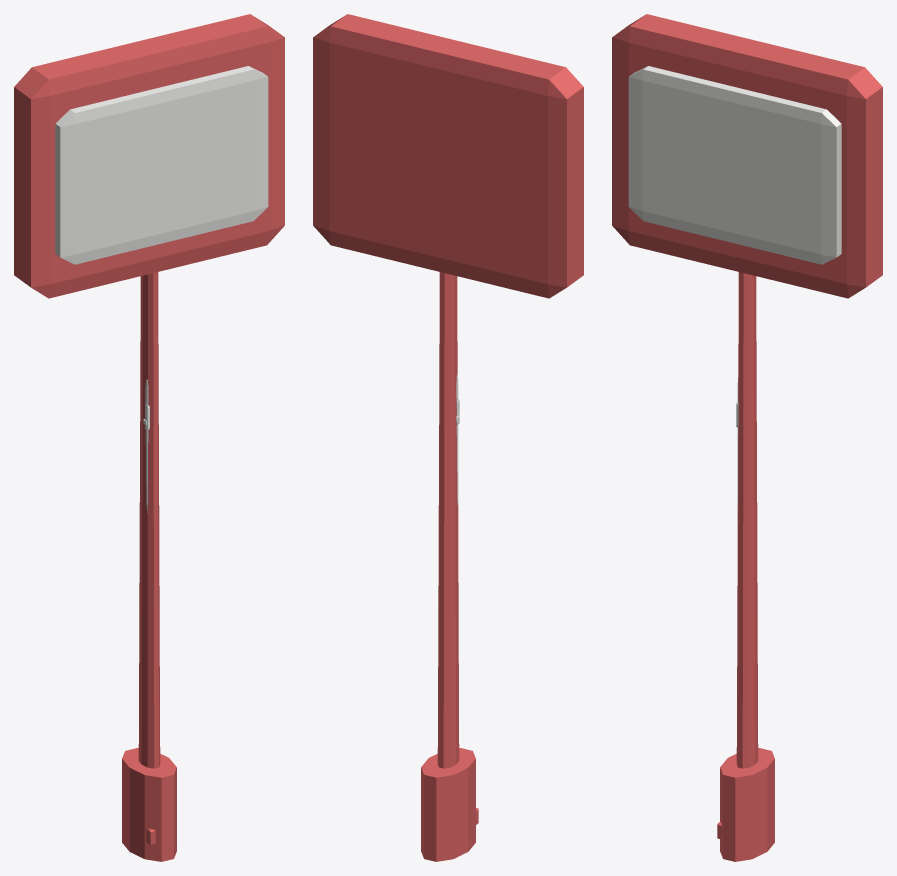
Rendered from b02_wrong_way.glb.
3 renders of one model, left to right at view 1: azimuth 30°, elevation 25°; view 2: azimuth 150°, elevation 25°; view 3: azimuth 330°, elevation 25°, orthographic.
Parts seen in each view (by area): view 1: b02_wrong_way; view 2: b02_wrong_way; view 3: b02_wrong_way.
Boxes of the visible parts, x1,y1,x2,y2 form: b02_wrong_way: [14, 14, 284, 861]; b02_wrong_way: [313, 14, 583, 861]; b02_wrong_way: [612, 14, 882, 861].
Bounding box in the file's own units: 0.8 × 2.41 × 0.2.
